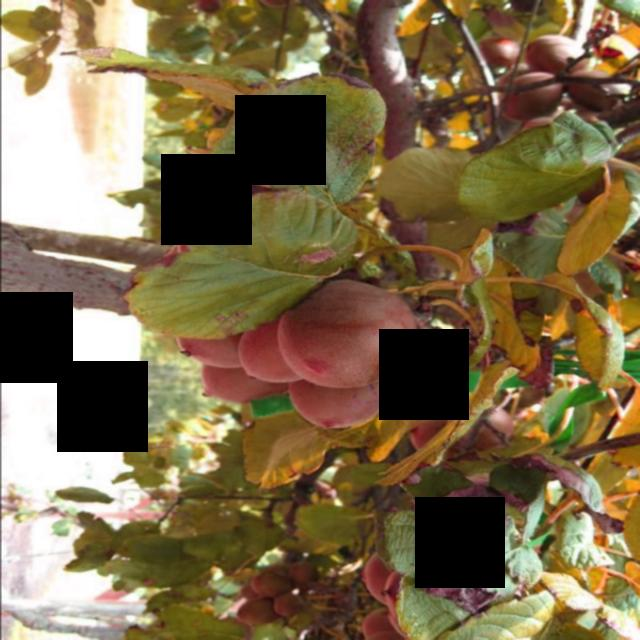kiwi: (275, 275, 425, 396), (281, 373, 399, 435), (193, 360, 293, 412), (236, 321, 310, 388), (498, 71, 572, 129), (447, 400, 521, 455), (523, 32, 595, 86), (172, 331, 256, 373), (362, 551, 408, 612), (404, 416, 451, 456), (476, 37, 523, 74), (352, 610, 409, 640), (235, 597, 275, 629), (267, 593, 312, 620), (287, 560, 327, 588), (252, 572, 288, 600)
